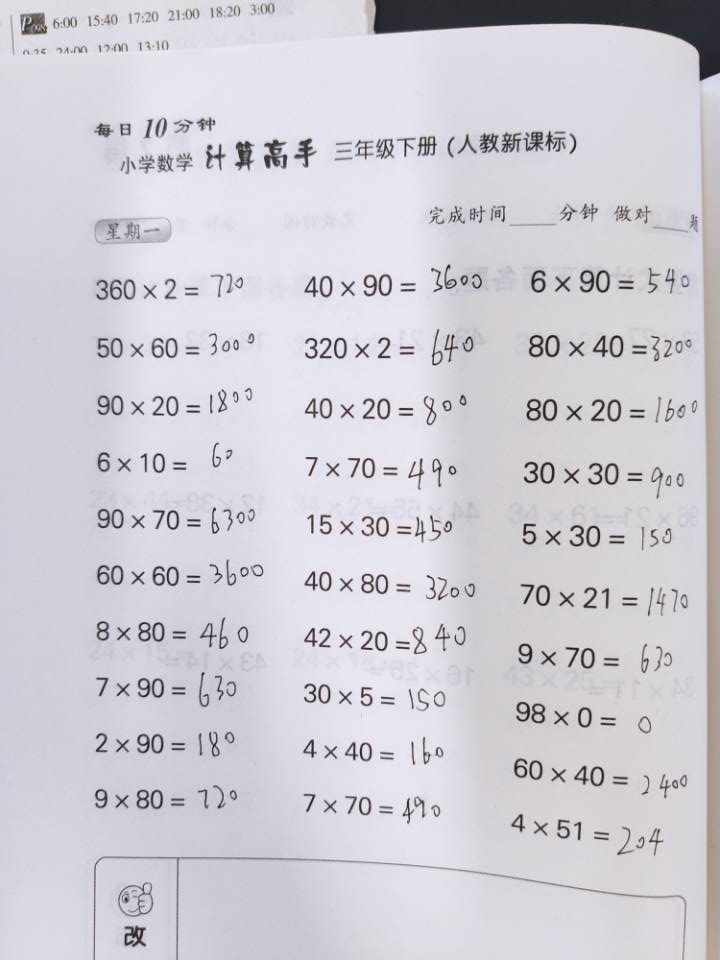equation: (604, 51, 653, 316), (236, 311, 280, 561), (188, 313, 233, 555), (329, 313, 370, 576), (283, 308, 325, 564), (290, 19, 330, 275), (463, 320, 503, 571), (241, 29, 282, 272), (382, 43, 422, 291), (458, 601, 496, 861), (421, 309, 459, 568), (340, 27, 378, 285), (329, 619, 369, 857), (474, 51, 514, 287), (411, 601, 449, 847), (241, 611, 280, 848), (284, 609, 323, 844), (194, 628, 236, 845), (370, 611, 407, 847), (432, 36, 467, 280), (376, 335, 412, 568), (565, 36, 598, 289), (588, 353, 625, 575), (500, 620, 536, 848), (581, 632, 617, 857), (194, 36, 229, 261), (544, 356, 580, 571), (508, 352, 541, 576), (524, 71, 557, 288), (541, 633, 574, 847)
